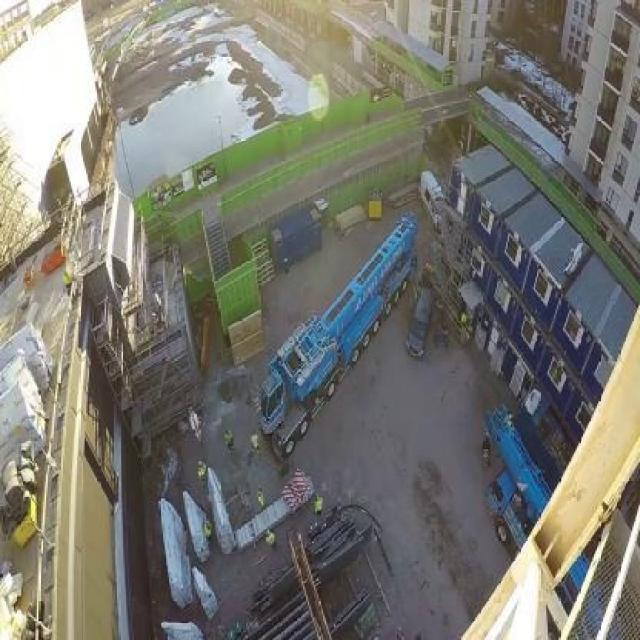Mobile Crane: (256, 217, 418, 461), (482, 405, 633, 632)
